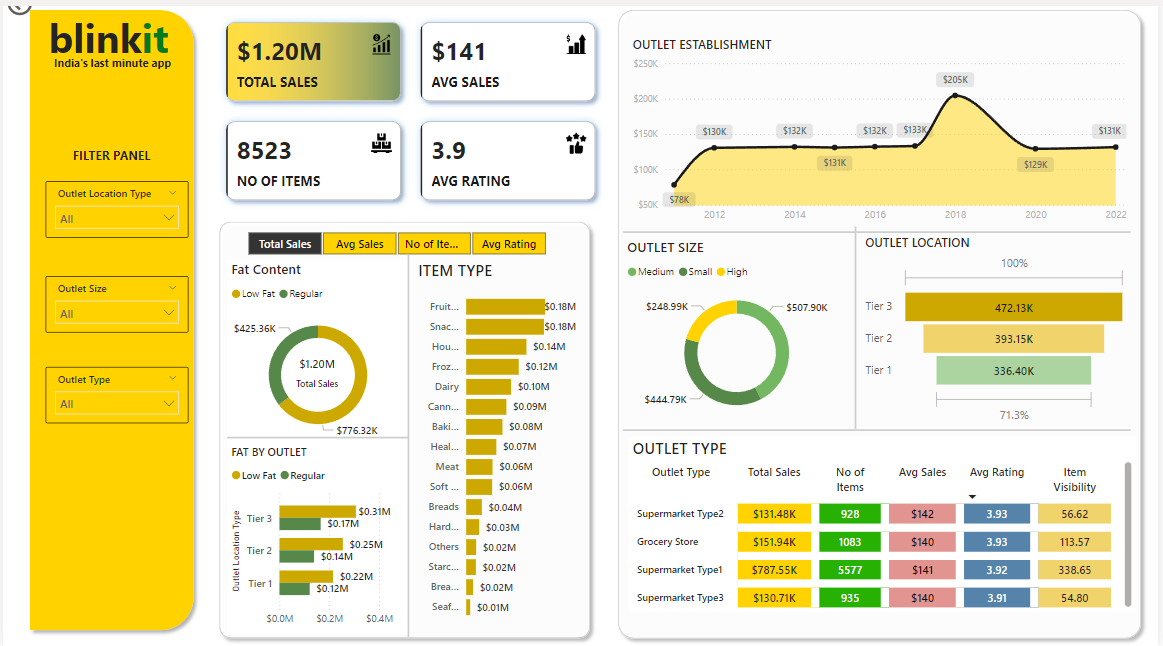

The page's visual inventory and layout, read from the dashboard file:
{"tool":"powerbi","page":{"name":"Page 1","canvas":[1400,800],"ordinal":0},"visuals":[{"type":"actionButton","box":[0,0,100,40],"z":0},{"type":"shape","box":[23.3,20,216.7,770],"z":1000},{"type":"textbox","box":[50,25.6,243.3,68.9],"z":2000},{"type":"textbox","box":[41.1,78.9,182.2,30],"z":3000},{"type":"cardVisual","fields":{"Data":["BlinkIT Grocery Data.Total Sales","BlinkIT Grocery Data.Avg Sales","BlinkIT Grocery Data.No of Items","BlinkIT Grocery Data.Avg Rating"]},"box":[253.3,26.7,483.3,250],"z":4000},{"type":"shape","box":[252.9,277.1,467.1,522.9],"z":5000},{"type":"donutChart","title":"Fat Content","fields":{"Y":["BlinkIT Grocery Data.Total Sales"],"Category":["BlinkIT Grocery Data.Item Fat Content"]},"box":[271.4,331.4,220,230],"z":6000},{"type":"slicer","fields":{"Values":["metrics.metrics"]},"box":[271.7,291.7,410,40],"z":7000},{"type":"cardVisual","fields":{"Data":["BlinkIT Grocery Data.Total Sales"]},"box":[321.4,420,118.6,97.1],"z":8000},{"type":"clusteredBarChart","title":"FAT BY OUTLET","fields":{"Y":["BlinkIT Grocery Data.Total Sales"],"Category":["BlinkIT Grocery Data.Outlet Location Type"],"Series":["BlinkIT Grocery Data.Item Fat Content"]},"box":[271.7,555,220,230],"z":9000},{"type":"shape","box":[271.4,537.1,220,21.4],"z":10000},{"type":"shape","box":[485.7,325.7,12.9,464.3],"z":11000},{"type":"barChart","title":"ITEM TYPE","fields":{"Y":["BlinkIT Grocery Data.Total Sales"],"Category":["BlinkIT Grocery Data.Item Type"]},"box":[498.6,331.4,201.4,445.7],"z":12000},{"type":"shape","box":[736.7,20,651.7,780],"z":13000},{"type":"lineChart","title":"OUTLET ESTABLISHMENT","fields":{"Y":["BlinkIT Grocery Data.Total Sales"],"Category":["BlinkIT Grocery Data.Outlet Establishment Year"]},"box":[758.3,60,608.3,235],"z":14000},{"type":"shape","box":[751.7,291.7,615,13.3],"z":15000},{"type":"donutChart","title":"OUTLET SIZE","fields":{"Y":["BlinkIT Grocery Data.Total Sales"],"Category":["BlinkIT Grocery Data.Outlet Size"]},"box":[751.7,305,275,230],"z":16000},{"type":"shape","box":[1026.7,291.7,13.3,245],"z":17000},{"type":"funnel","title":"OUTLET LOCATION","fields":{"Y":["Sum(BlinkIT Grocery Data.Sales)"],"Category":["BlinkIT Grocery Data.Outlet Location Type"]},"box":[1040,300,326.7,235],"z":18000},{"type":"shape","box":[751.7,530,615,16.7],"z":19000},{"type":"pivotTable","title":"OUTLET TYPE","fields":{"Rows":["BlinkIT Grocery Data.Outlet Type"],"Values":["BlinkIT Grocery Data.Total Sales","BlinkIT Grocery Data.No of Items","BlinkIT Grocery Data.Avg Sales","BlinkIT Grocery Data.Avg Rating","Sum(BlinkIT Grocery Data.Item Visibility)"]},"box":[758.3,546.7,615,211.7],"z":20000},{"type":"slicer","fields":{"Values":["BlinkIT Grocery Data.Outlet Location Type"]},"box":[51.7,236.7,173.3,68.3],"z":21000},{"type":"slicer","fields":{"Values":["BlinkIT Grocery Data.Outlet Size"]},"box":[51.7,351.7,173.3,68.3],"z":22000},{"type":"slicer","fields":{"Values":["BlinkIT Grocery Data.Outlet Type"]},"box":[51.7,461.7,173.3,68.3],"z":23000},{"type":"textbox","box":[71.7,190,120,31.7],"z":24000}]}

Visuals, with their boxes in screenshot pixels (x1, y1, x2, y2), scaled from the page's 1400x800 canvas onto the 1163x646 screenshot:
actionButton: [0,0,83,32]
shape: [19,16,199,638]
textbox: [42,21,244,76]
textbox: [34,64,185,88]
cardVisual - BlinkIT Grocery Data.Total Sales x BlinkIT Grocery Data.Avg Sales: [210,22,612,223]
shape: [210,224,598,645]
"Fat Content" donutChart: [225,268,408,453]
slicer - metrics.metrics: [226,236,566,268]
cardVisual - BlinkIT Grocery Data.Total Sales: [267,339,366,418]
"FAT BY OUTLET" clusteredBarChart: [226,448,408,634]
shape: [225,434,408,451]
shape: [403,263,414,638]
"ITEM TYPE" barChart: [414,268,582,628]
shape: [612,16,1153,645]
"OUTLET ESTABLISHMENT" lineChart: [630,48,1135,238]
shape: [624,236,1135,246]
"OUTLET SIZE" donutChart: [624,246,853,432]
shape: [853,236,864,433]
"OUTLET LOCATION" funnel: [864,242,1135,432]
shape: [624,428,1135,441]
"OUTLET TYPE" pivotTable: [630,441,1141,612]
slicer - BlinkIT Grocery Data.Outlet Location Type: [43,191,187,246]
slicer - BlinkIT Grocery Data.Outlet Size: [43,284,187,339]
slicer - BlinkIT Grocery Data.Outlet Type: [43,373,187,428]
textbox: [60,153,159,179]
